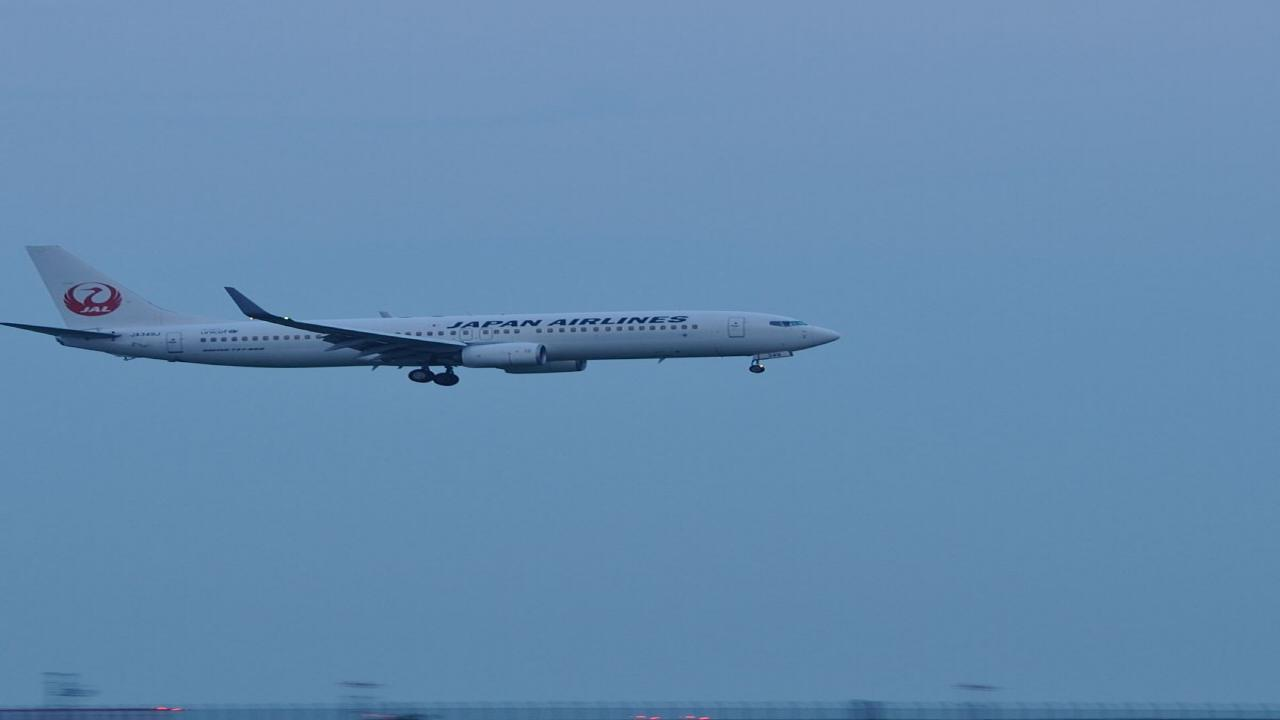Airplane: (0, 220, 863, 415)
